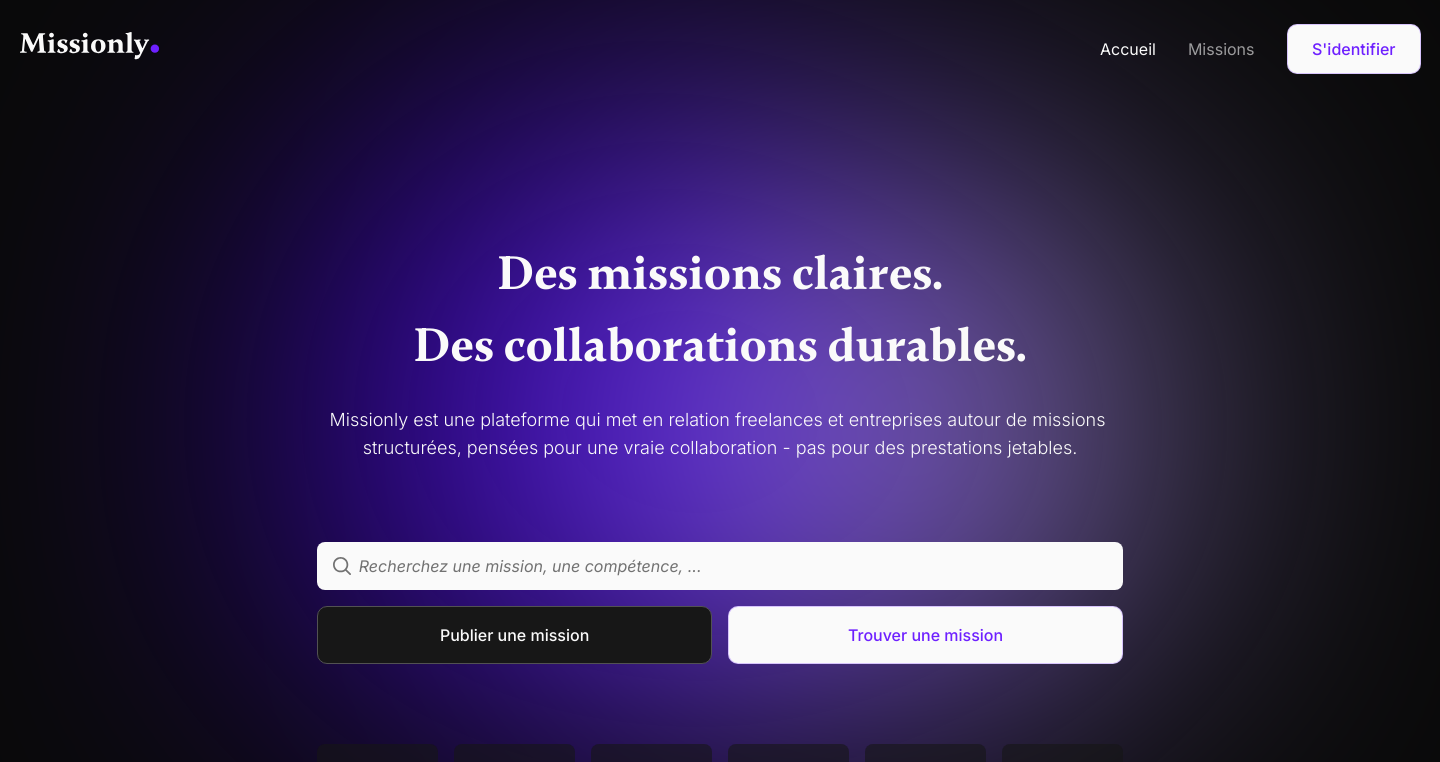
Test case: template spec › Redirige avec query et préremplit le champ sur /missions (Enter)
Type "design" into the search field with test id "search-input".
click(720, 566); type("design")  # box [317,542,1123,590]
Then press Enter
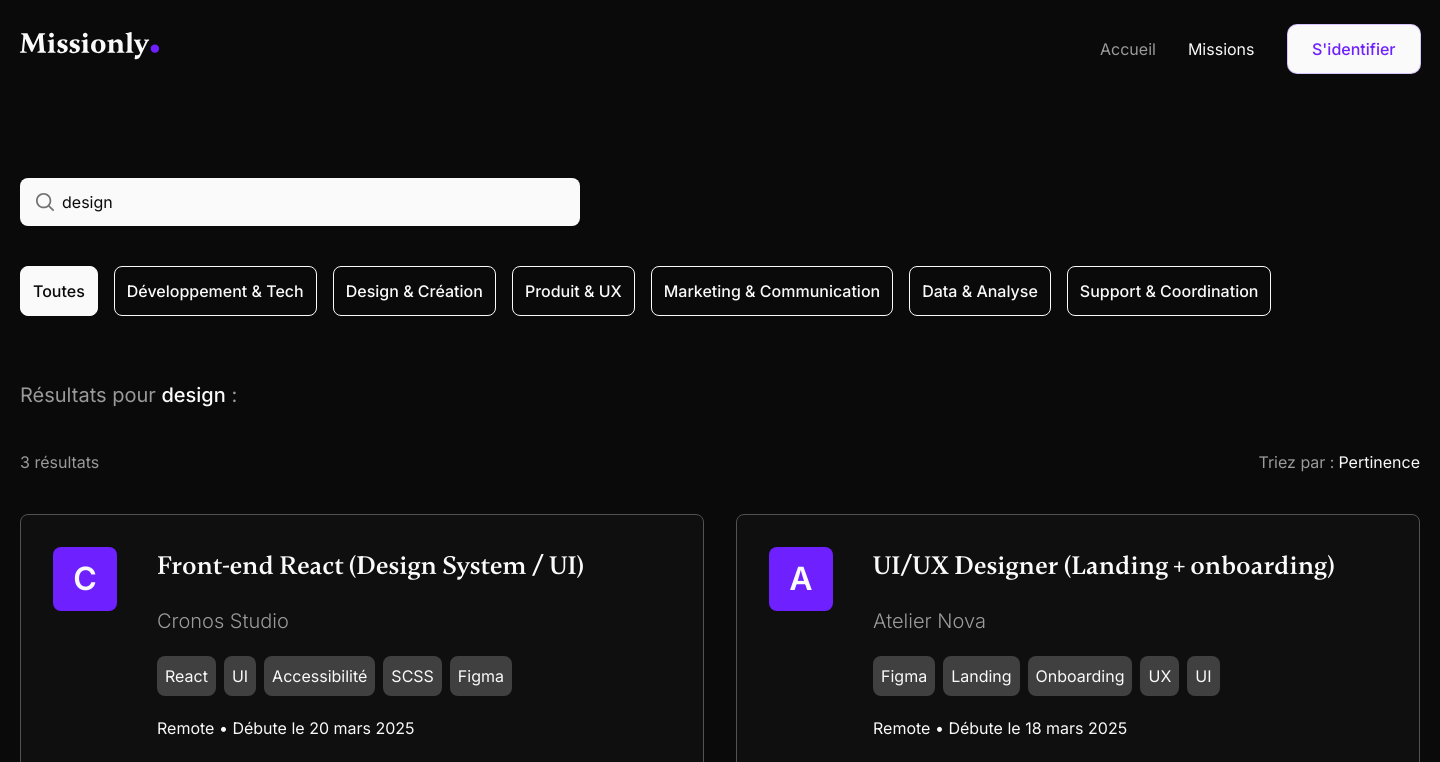
Now the search field with test id "search-input" holds "design", box [20,178,580,226]
